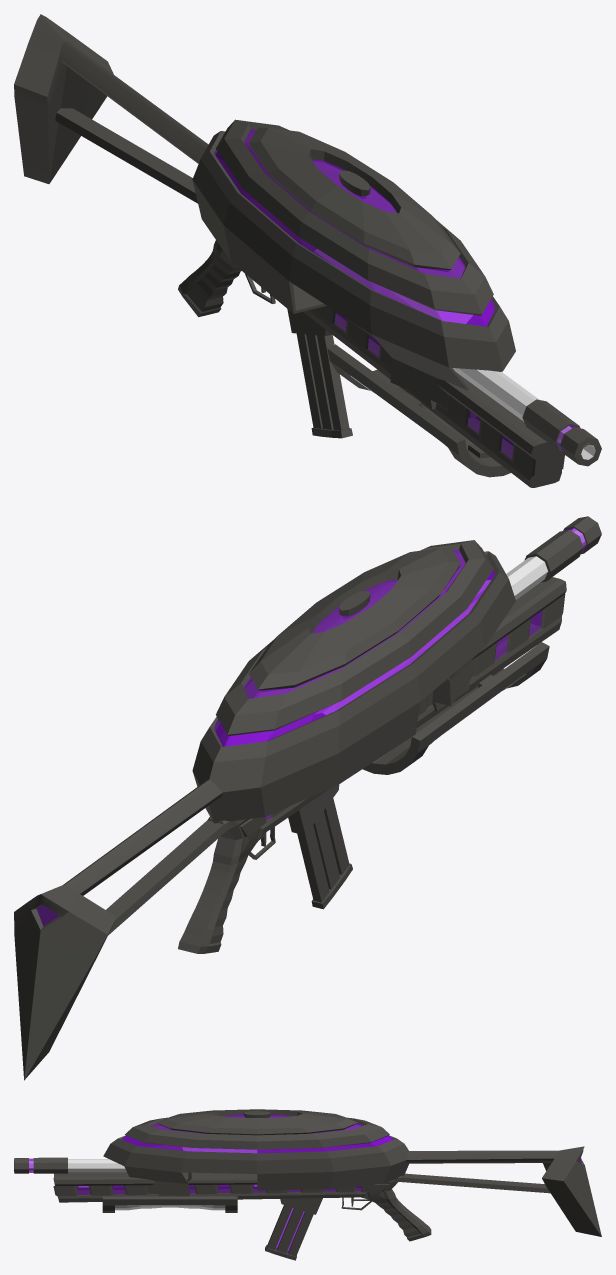
File: Rifle.fbx
3 views of the same model, one above another, from view 1: azimuth 30°, elevation 25°; view 2: azimuth 150°, elevation 25°; view 3: azimuth 270°, elevation 25° (orthographic). The views are drawn at different scales.
Visible parts, largest first — view 1: pCylinder3, pCylinder1, polySurface2; view 2: pCylinder3, pCylinder1, polySurface2; view 3: pCylinder3, pCylinder1, polySurface2.
Boxes of the visible parts, <box> form: pCylinder3: <box>14,14,564,487</box>; pCylinder1: <box>314,249,601,466</box>; polySurface2: <box>296,333,352,438</box>; pCylinder3: <box>14,540,566,1080</box>; pCylinder1: <box>312,516,601,720</box>; polySurface2: <box>297,798,352,909</box>; pCylinder3: <box>53,1109,601,1241</box>; pCylinder1: <box>14,1157,126,1173</box>; polySurface2: <box>265,1205,313,1260</box>.
Bounding box in the file's own units: 1.17 × 2.37 × 8.64.
